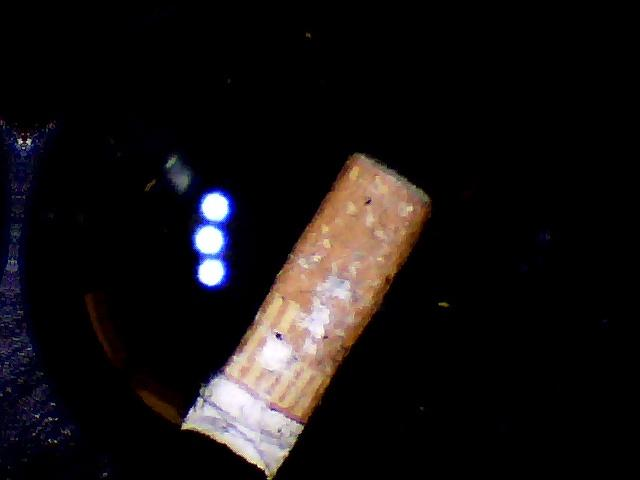megot: (165, 135, 446, 479)
